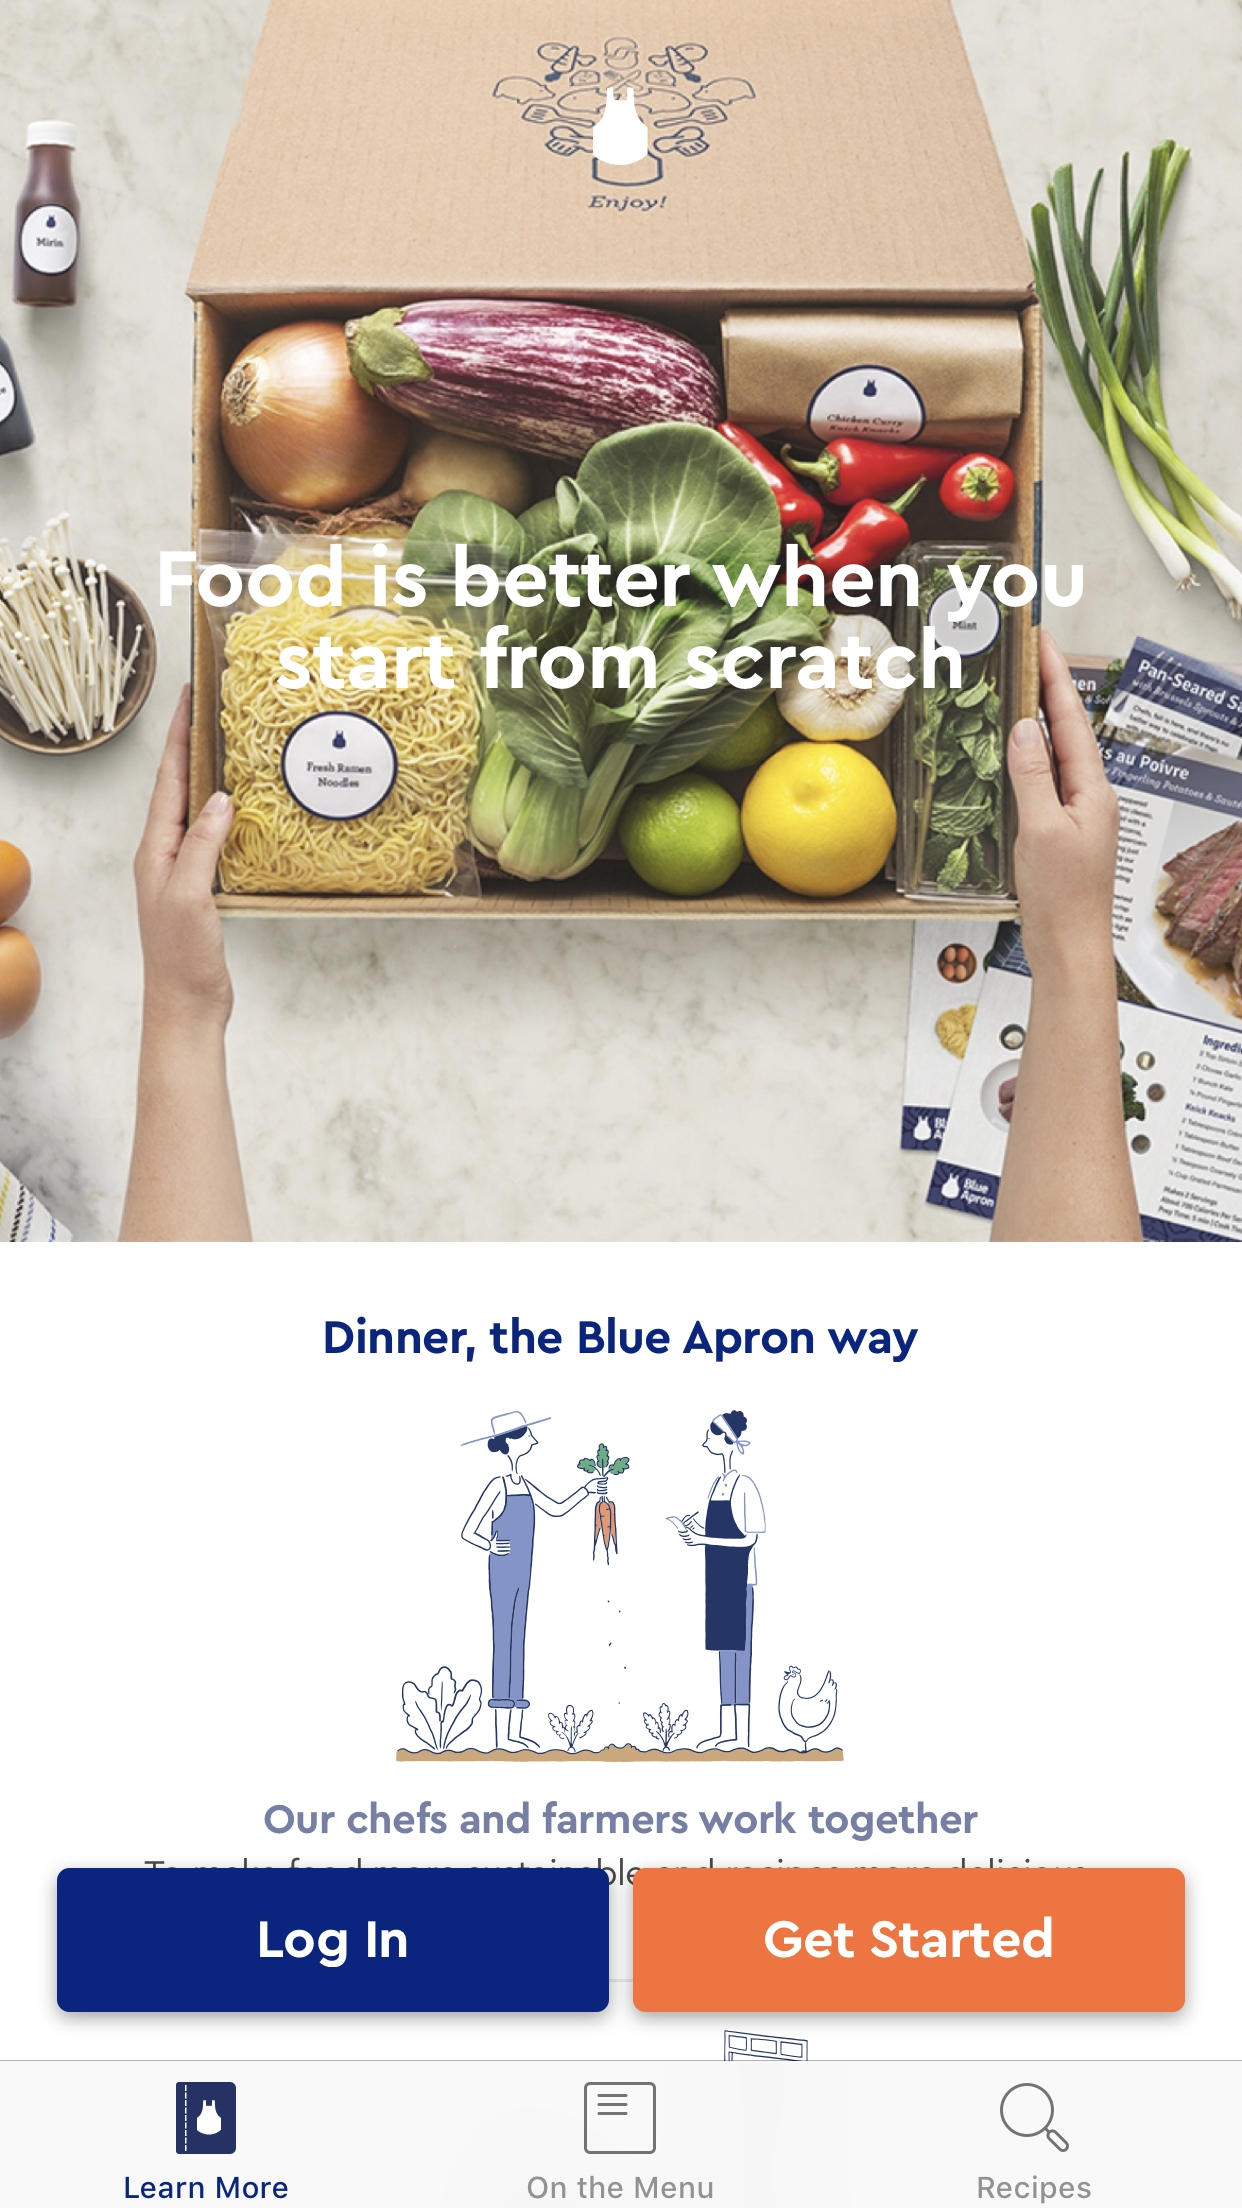Icon: (584, 2081, 657, 2155), (999, 2082, 1071, 2153)
Image: (2, 2, 1242, 1244), (396, 1409, 845, 1762), (177, 2082, 238, 2155)
Text: (161, 541, 1084, 692), (264, 1800, 980, 1843), (325, 1316, 919, 1363), (528, 2175, 714, 2199), (124, 2176, 290, 2199), (978, 2175, 1092, 2203)
TextButton: (632, 1868, 1186, 2012), (58, 1868, 610, 2012)
